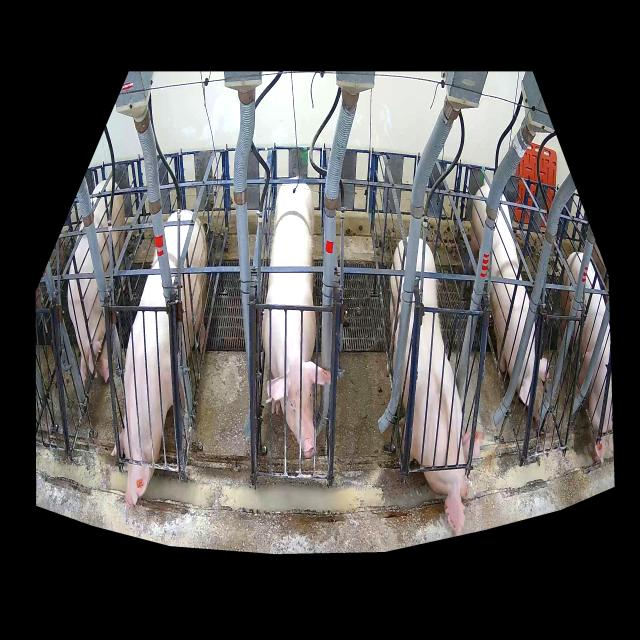pig: (110, 209, 207, 511), (390, 236, 471, 532), (261, 184, 331, 458), (466, 184, 547, 405), (67, 180, 125, 388), (559, 252, 614, 464)
